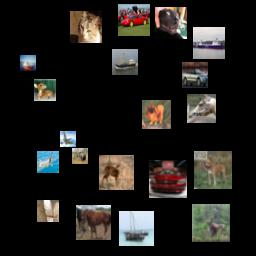airplane: (37, 151, 59, 173), (60, 131, 76, 147)
automobile: (149, 160, 187, 198), (118, 4, 150, 36), (182, 62, 208, 88)
cat: (155, 7, 187, 39), (70, 11, 102, 43), (37, 200, 59, 222)
deer: (192, 204, 230, 242), (99, 155, 134, 190), (34, 79, 56, 101), (72, 148, 88, 164)
dog: (194, 151, 232, 189), (142, 100, 171, 129)
ship: (119, 211, 154, 246), (193, 27, 225, 59), (112, 49, 138, 75), (20, 55, 36, 71)
